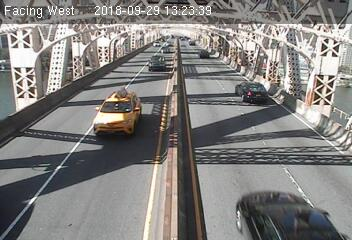car: (231, 185, 341, 240), (93, 90, 145, 135), (232, 79, 270, 105), (146, 54, 167, 70), (197, 48, 210, 60)
